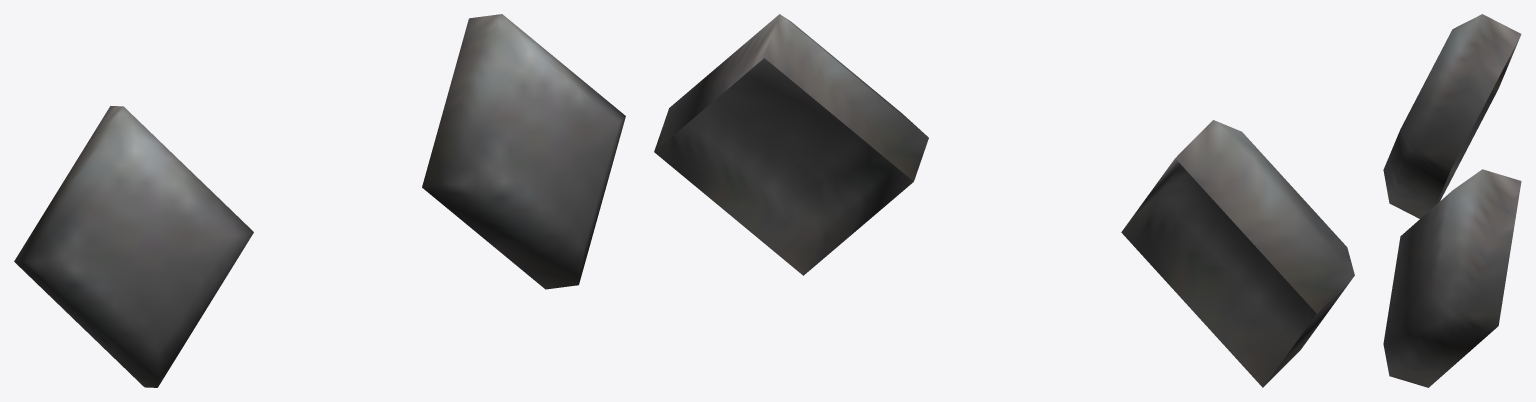
File: Homeworld_Ani_Exterior_Common_Decoration_Prop_WoodAranaraEyes_02_Vo.fbx
The picture shows the model from 3 angles, left to right: view 1: azimuth 30°, elevation 25°; view 2: azimuth 150°, elevation 25°; view 3: azimuth 270°, elevation 25°; orthographic projection. The views are drawn at different scales.
Parts seen in each view (by area): view 1: Homeworld_Ani_Exterior_Common_Decoration_Prop_WoodAranaraEye; view 2: Homeworld_Ani_Exterior_Common_Decoration_Prop_WoodAranaraEye; view 3: Homeworld_Ani_Exterior_Common_Decoration_Prop_WoodAranaraEye.
Part boxes in pixels (x1,y1,x2,y2): Homeworld_Ani_Exterior_Common_Decoration_Prop_WoodAranaraEye: (14, 14, 625, 387); Homeworld_Ani_Exterior_Common_Decoration_Prop_WoodAranaraEye: (654, 14, 1354, 387); Homeworld_Ani_Exterior_Common_Decoration_Prop_WoodAranaraEye: (1383, 14, 1521, 387).
Size of the model in its own units: 0.1769 by 0.072 by 0.0421.
